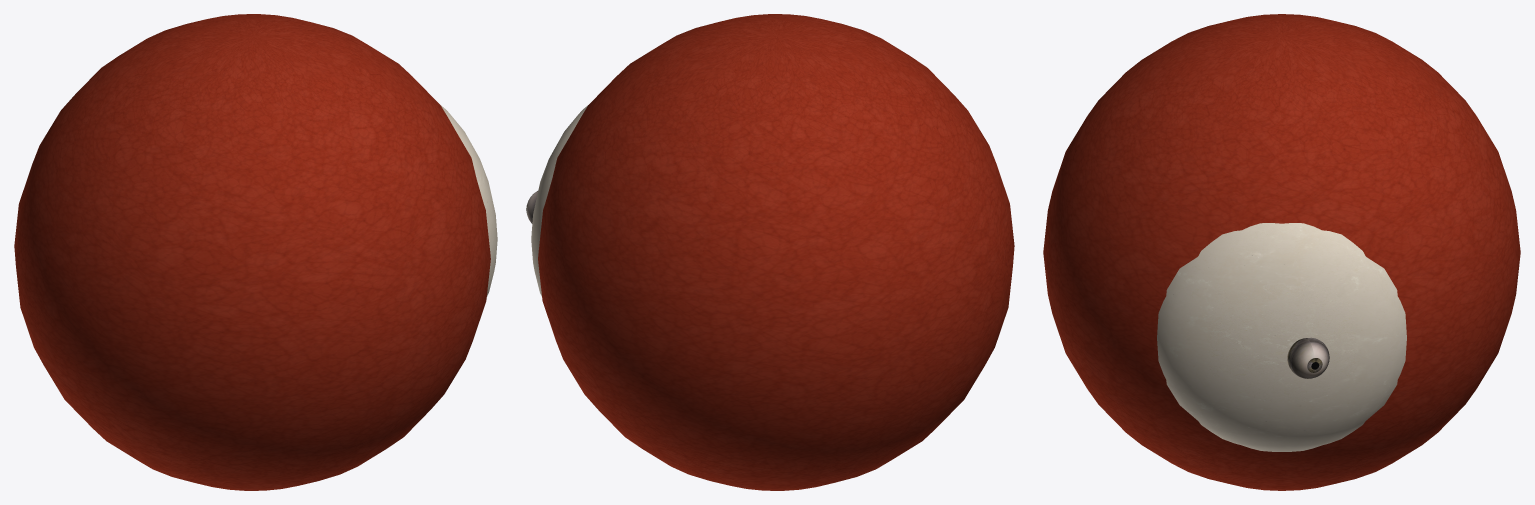
Rendered from real_myaku_eye.fbx.
The picture shows the model from 3 angles, left to right: view 1: azimuth 30°, elevation 25°; view 2: azimuth 150°, elevation 25°; view 3: azimuth 270°, elevation 25°; orthographic projection.
Parts seen in each view (by area): view 1: Sphere, Sphere.001; view 2: Sphere, Sphere.001; view 3: Sphere, Sphere.001, Sphere.002.
Boxes of the visible parts, bbox=[...] form: Sphere: bbox=[14, 14, 490, 490]; Sphere.001: bbox=[441, 105, 497, 296]; Sphere: bbox=[538, 14, 1014, 490]; Sphere.001: bbox=[531, 105, 587, 296]; Sphere: bbox=[1043, 14, 1520, 490]; Sphere.001: bbox=[1157, 223, 1406, 451]; Sphere.002: bbox=[1287, 337, 1329, 378].
Size of the model in its own units: 213 by 200 by 200.
3 materials, 3 textured.
